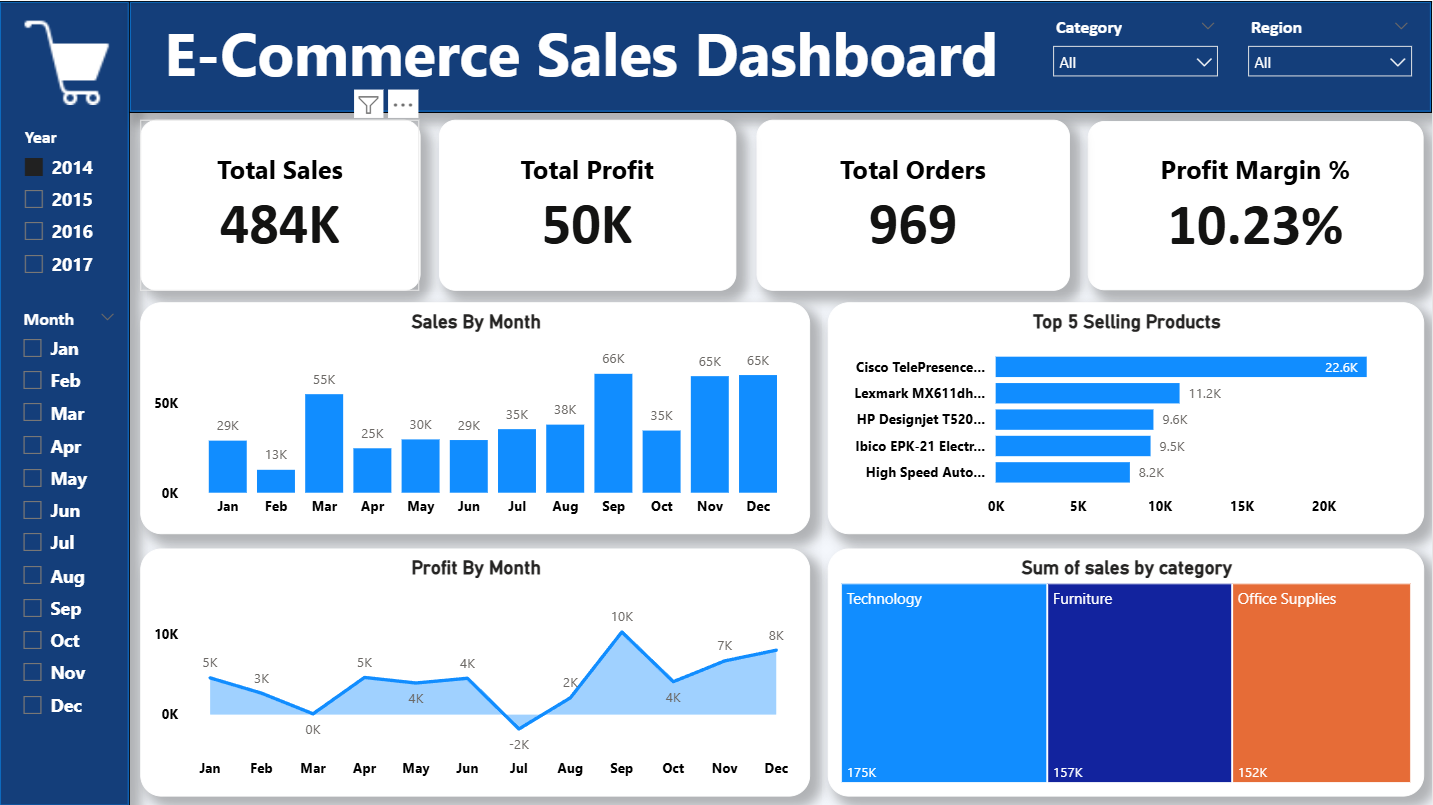

Layout of this report page (visuals, bound fields, positions):
{"tool":"powerbi","page":{"name":"Page 1","canvas":[1280,720],"ordinal":0},"visuals":[{"type":"shape","box":[0,0,117.1,720],"z":0},{"type":"image","box":[147.1,21.4,84.3,77.1],"z":1000},{"type":"shape","box":[115.7,0,1164.3,100],"z":2000},{"type":"slicer","fields":{"Values":["cleaned_dataset.Year"]},"box":[10,106.7,106.7,153.3],"z":3000},{"type":"textbox","box":[117.1,4.3,805.7,91.4],"z":4000},{"type":"slicer","fields":{"Values":["cleaned_dataset.Month"]},"box":[8.6,268.6,107.1,444.3],"z":5000},{"type":"slicer","fields":{"Values":["cleaned_dataset.category"]},"box":[931.4,8.6,167.9,90.7],"z":6000},{"type":"slicer","fields":{"Values":["cleaned_dataset.region"]},"box":[1105.7,8.6,166.4,90.7],"z":7000},{"type":"cardVisual","fields":{"Data":["cleaned_dataset.Total Sales"]},"box":[125.7,105.7,250,152.9],"z":8000},{"type":"cardVisual","fields":{"Data":["cleaned_dataset.Profit Margin %"]},"box":[972.9,107.1,300,151.4],"z":9000},{"type":"cardVisual","fields":{"Data":["cleaned_dataset.Total Orders"]},"box":[677.1,105.7,280,152.9],"z":10000},{"type":"cardVisual","fields":{"Data":["cleaned_dataset.Total Profit"]},"box":[392.9,105.7,265.7,152.9],"z":11000},{"type":"columnChart","title":"Sales By Month","fields":{"Y":["Sum(cleaned_dataset.sales)"],"Category":["cleaned_dataset.Month"]},"box":[125.7,268.6,598.6,207.1],"z":12000},{"type":"areaChart","title":"Profit By Month","fields":{"Category":["cleaned_dataset.Month"],"Y":["Sum(cleaned_dataset.profit)"]},"box":[125.7,488.6,598.6,221.4],"z":13000},{"type":"clusteredBarChart","title":"Top 5 Selling Products","fields":{"Category":["cleaned_dataset.product_name"],"Y":["Sum(cleaned_dataset.sales)"]},"box":[740,268.6,532.9,207.1],"z":14000},{"type":"treemap","fields":{"Group":["cleaned_dataset.category"],"Values":["Sum(cleaned_dataset.sales)"]},"box":[740,488.6,532.9,221.4],"z":15000},{"type":"image","box":[15.7,14.3,92.9,78.6],"z":16000}]}

Visuals, with their boxes in screenshot pixels (x1, y1, x2, y2), scaled from the page's 1280x720 canvas onto the 1433x805 screenshot:
shape: box(0, 0, 131, 804)
image: box(165, 24, 259, 110)
shape: box(130, 0, 1432, 112)
slicer - cleaned_dataset.Year: box(11, 119, 131, 291)
textbox: box(131, 5, 1033, 107)
slicer - cleaned_dataset.Month: box(10, 300, 130, 797)
slicer - cleaned_dataset.category: box(1043, 10, 1231, 111)
slicer - cleaned_dataset.region: box(1238, 10, 1424, 111)
cardVisual - cleaned_dataset.Total Sales: box(141, 118, 421, 289)
cardVisual - cleaned_dataset.Profit Margin %: box(1089, 120, 1425, 289)
cardVisual - cleaned_dataset.Total Orders: box(758, 118, 1072, 289)
cardVisual - cleaned_dataset.Total Profit: box(440, 118, 737, 289)
"Sales By Month" columnChart: box(141, 300, 811, 532)
"Profit By Month" areaChart: box(141, 546, 811, 794)
"Top 5 Selling Products" clusteredBarChart: box(828, 300, 1425, 532)
treemap - cleaned_dataset.category x Sum(cleaned_dataset.sales): box(828, 546, 1425, 794)
image: box(18, 16, 122, 104)
